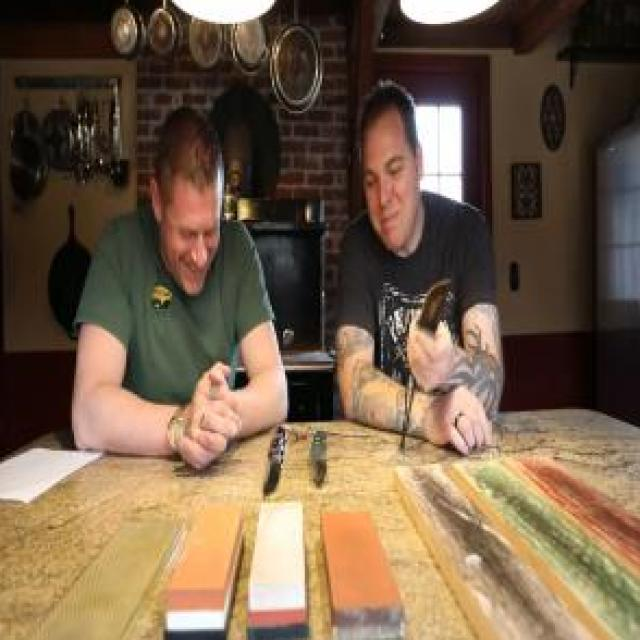knife: (403, 257, 457, 366)
